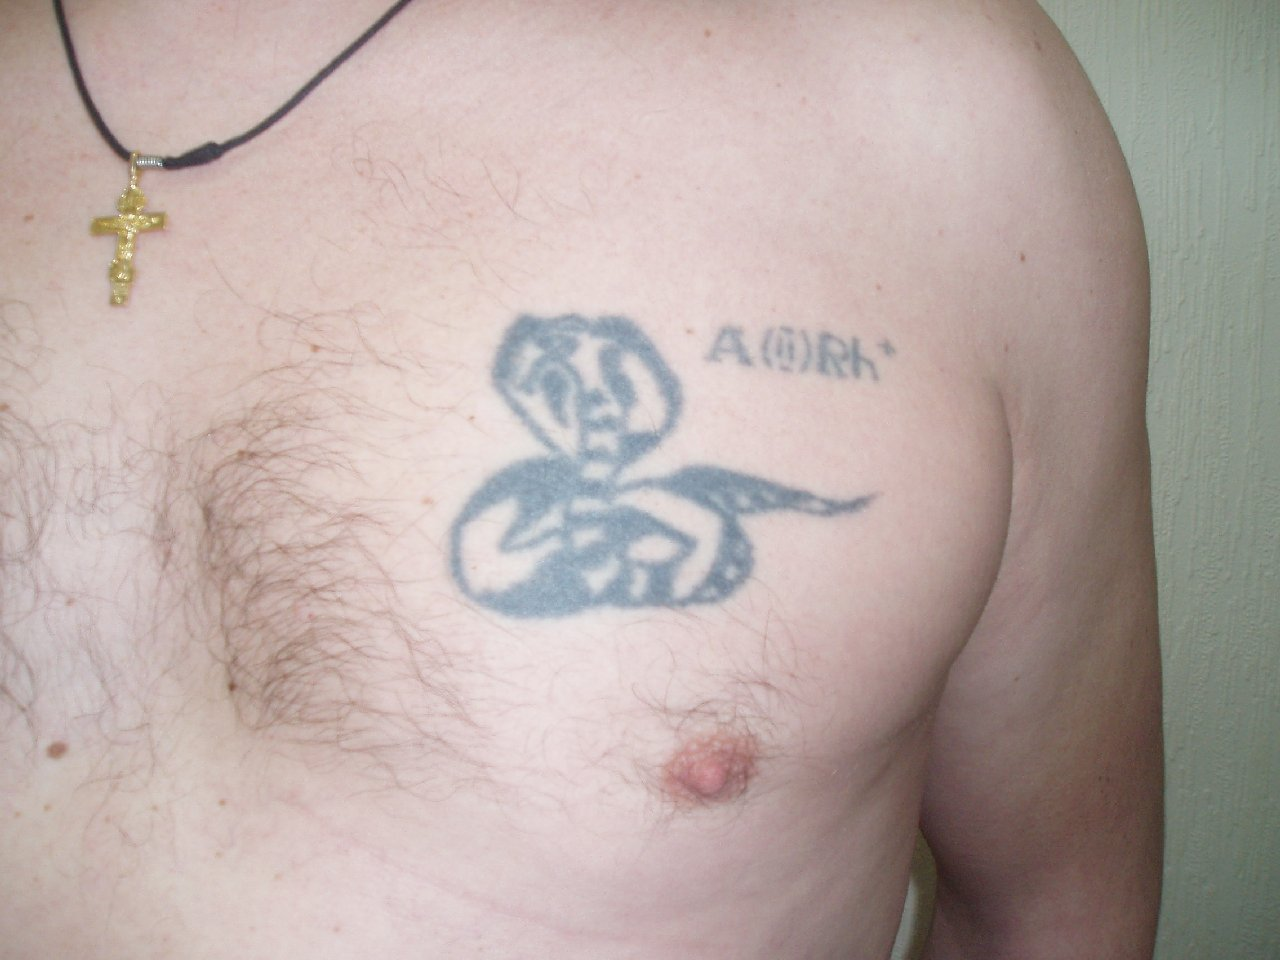tatu3_bukva: (818, 320, 885, 392), (705, 306, 761, 387)
tatu7_zmeya: (422, 284, 888, 626)
